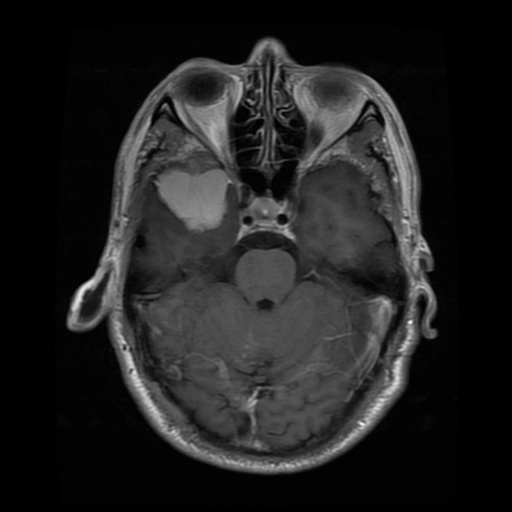meningioma: (155, 169, 231, 233)
